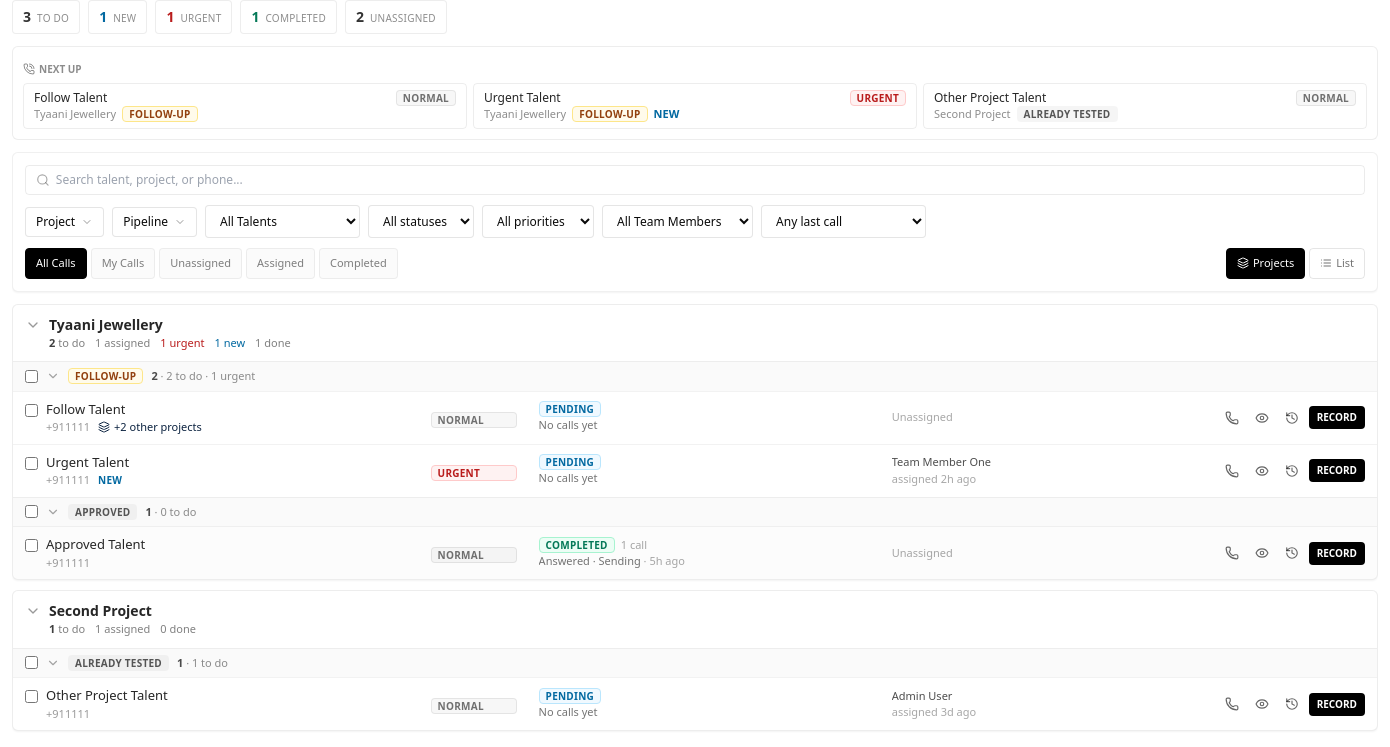
Scenario: Calls — assignment, priority, queue › bulk assignment sends the assignee and the chosen priority (admin only)
Click the checkbox named "Select Follow Talent" at (32, 410), box [25,404,38,416]
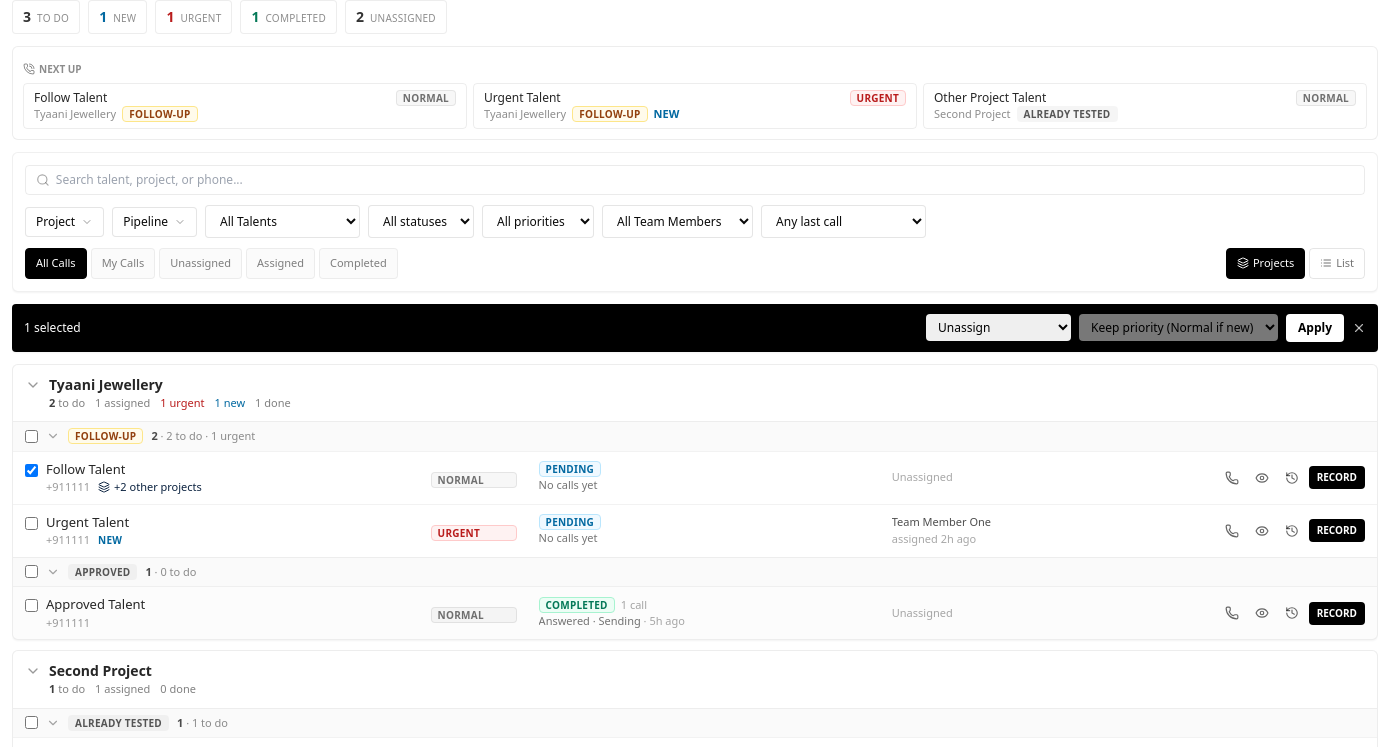
Select "Team Member One" in the dropdown named "Assign to" at (998, 328), box [926,314,1071,341]
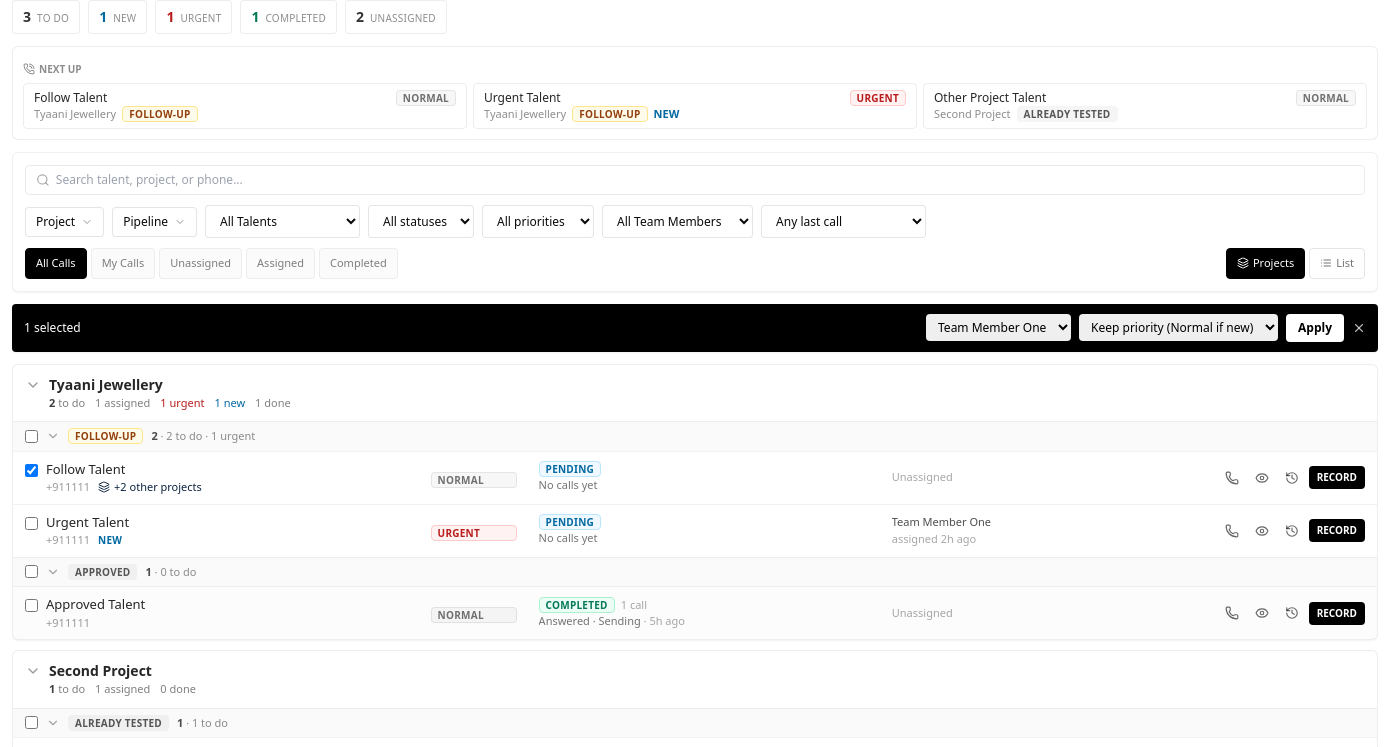
Select "Urgent" in the dropdown named "Priority for assignment" at (1178, 328), box [1079,314,1278,341]
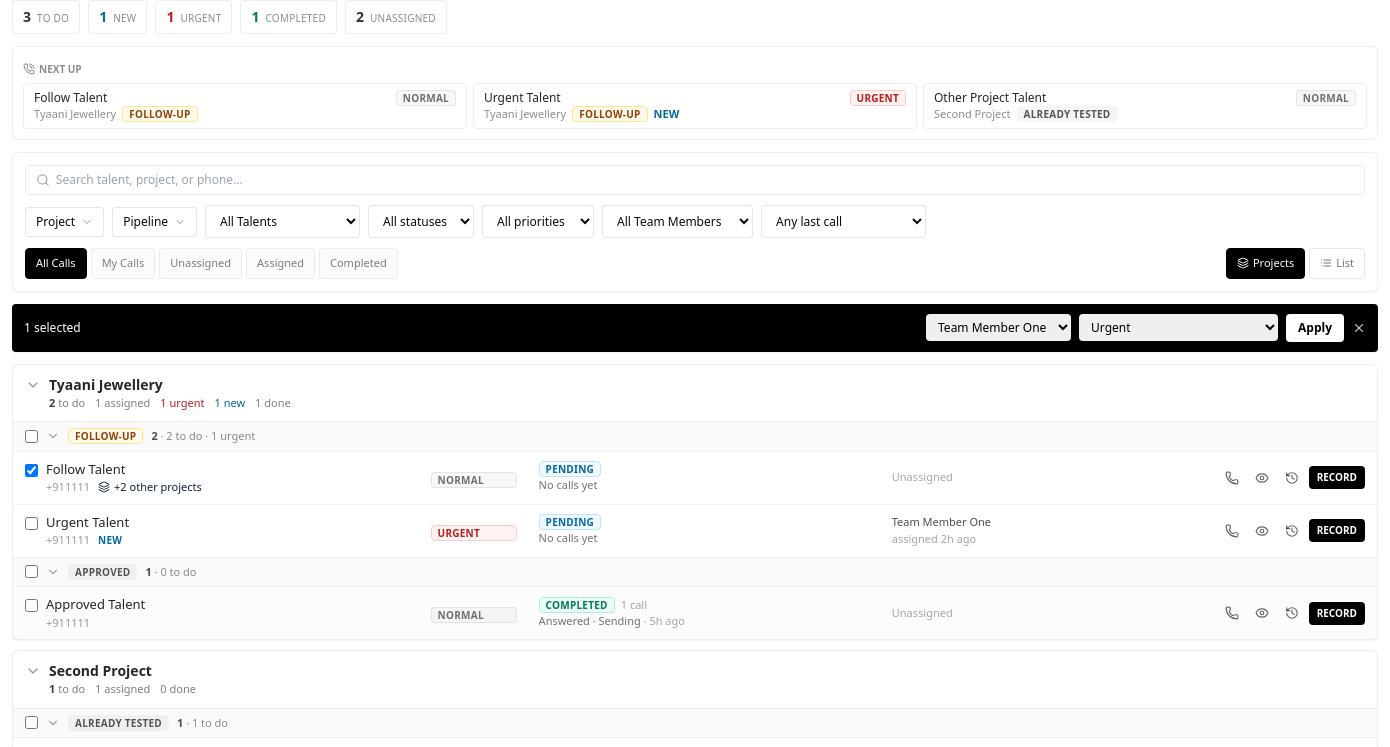
Click the button "Apply" at (1315, 328), box [1286,314,1344,342]
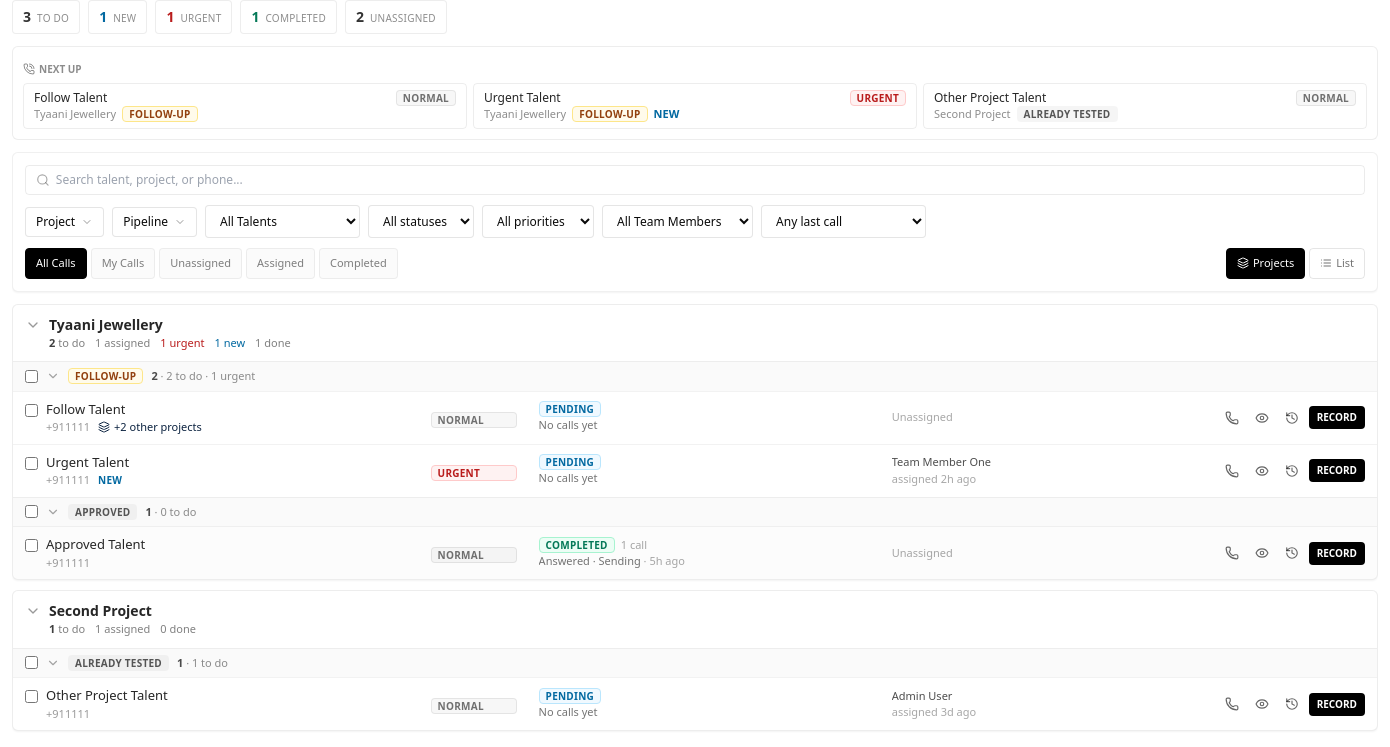
// the choice does not leak into the next batch
Click the checkbox named "Select Follow Talent" at (32, 410), box [25,404,38,416]
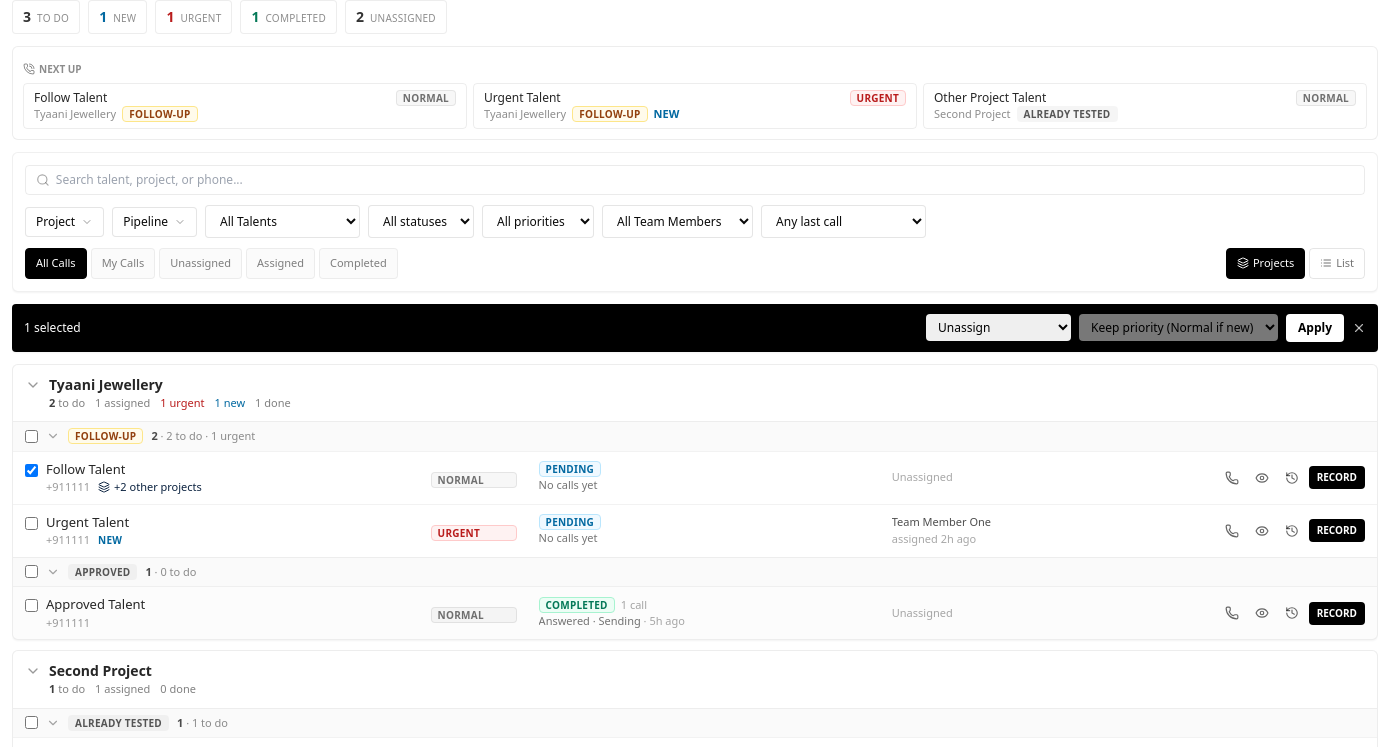
Check: the dropdown named "Assign to" shows "Unassign", box [926,314,1071,341]
Check: the dropdown named "Priority for assignment" shows "Keep priority (Normal if new)", box [1079,314,1278,341]
